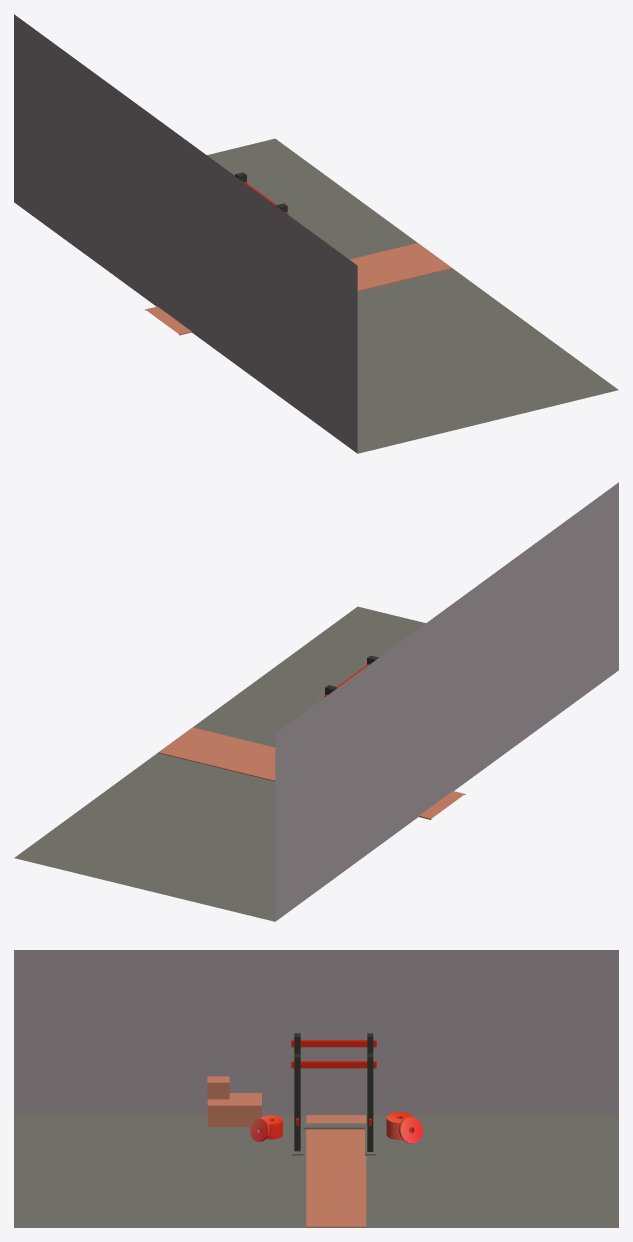
Rendered from bg_with_color.fbx.
The picture shows the model from 3 angles, top to bottom: view 1: azimuth 30°, elevation 25°; view 2: azimuth 150°, elevation 25°; view 3: azimuth 270°, elevation 25°; orthographic projection. The views are drawn at different scales.
Visible parts, largest first — view 1: polySurface49, polySurface50, pCube3; view 2: polySurface49, polySurface50, pCube3; view 3: polySurface49, polySurface50, pCube3, polySurface47, pCube6, polySurface39, polySurface38.
Boxes of the visible parts, x1=… form: polySurface49: x1=14, y1=14, x2=357, y2=453; polySurface50: x1=207, y1=138, x2=618, y2=453; pCube3: x1=145, y1=243, x2=451, y2=335; polySurface49: x1=275, y1=482, x2=618, y2=921; polySurface50: x1=14, y1=606, x2=425, y2=921; pCube3: x1=158, y1=727, x2=465, y2=819; polySurface49: x1=14, y1=950, x2=618, y2=1115; polySurface50: x1=14, y1=1115, x2=618, y2=1227; pCube3: x1=306, y1=1115, x2=366, y2=1227; polySurface47: x1=291, y1=1033, x2=376, y2=1155; pCube6: x1=207, y1=1076, x2=261, y2=1127; polySurface39: x1=386, y1=1112, x2=422, y2=1143; polySurface38: x1=250, y1=1115, x2=282, y2=1141.
Size of the model in its own units: 634 by 417 by 1379.
